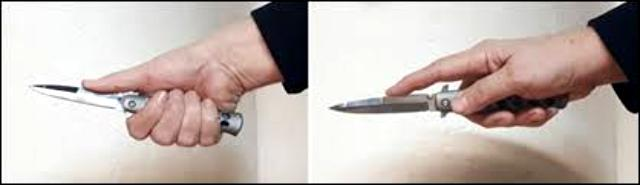pocket-knife: (28, 66, 256, 150), (323, 65, 582, 137)
